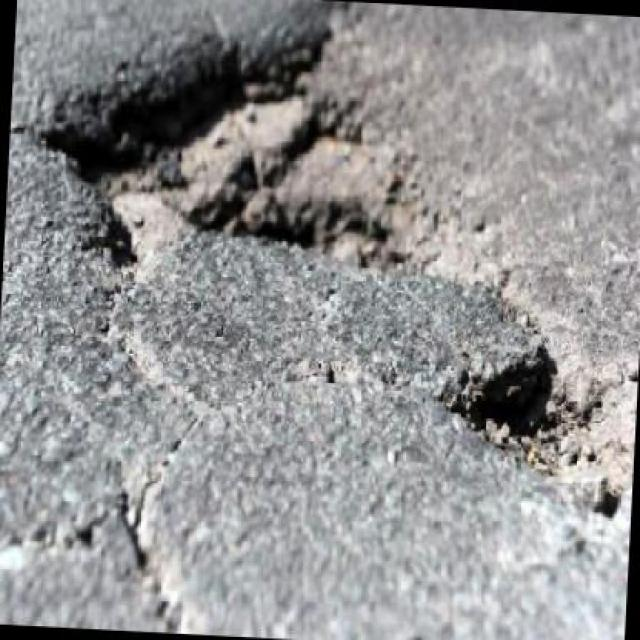pothole1: (28, 0, 472, 300), (434, 323, 638, 517)
